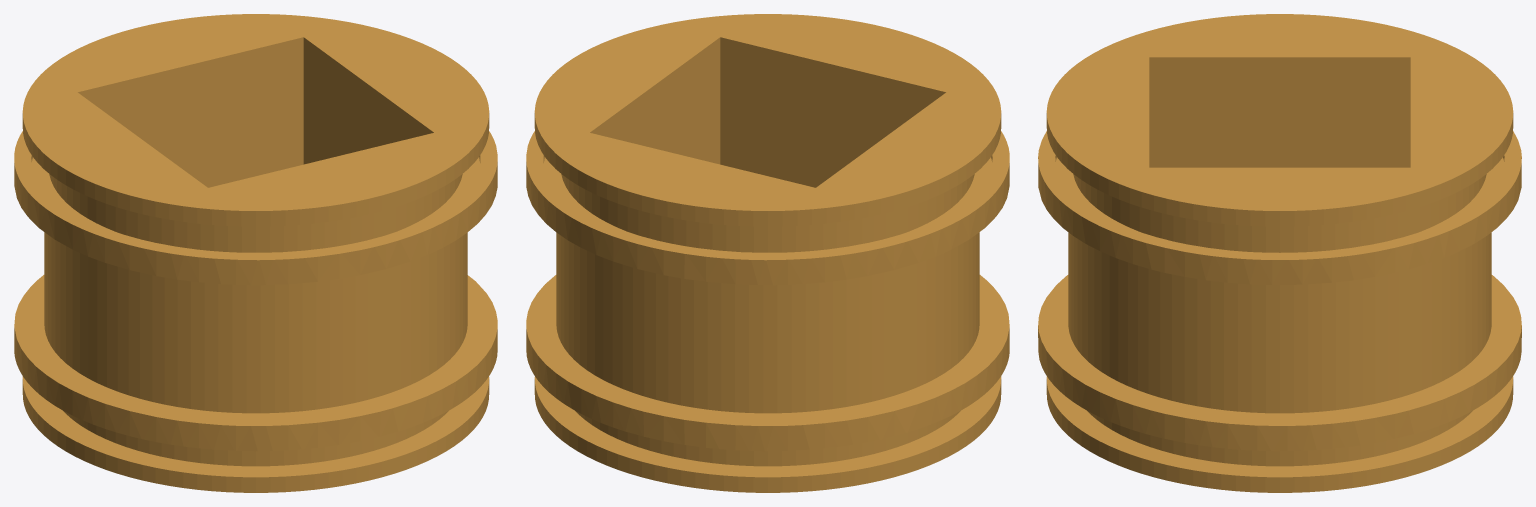
The picture shows the model from 3 angles, left to right: view 1: azimuth 30°, elevation 25°; view 2: azimuth 150°, elevation 25°; view 3: azimuth 270°, elevation 25°; orthographic projection.
Visible parts, largest first — view 1: felni_kocka_v1.stl; view 2: felni_kocka_v1.stl; view 3: felni_kocka_v1.stl.
Part boxes in pixels (left/top/right/bottom): felni_kocka_v1.stl: left=14, top=14, right=497, bottom=492; felni_kocka_v1.stl: left=526, top=14, right=1009, bottom=492; felni_kocka_v1.stl: left=1038, top=14, right=1521, bottom=492.
Size of the model in its own units: 55.98 by 36 by 55.99.
